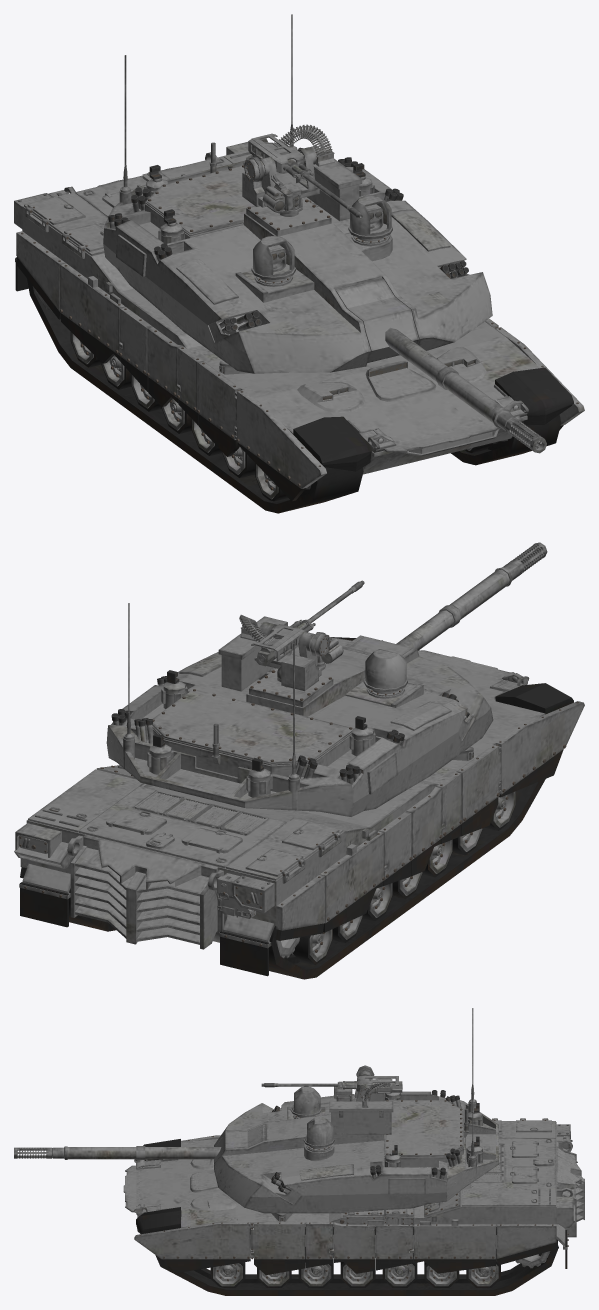
Rendered from abramsx-mortavex.glb.
3 views of the same model, one above another, from view 1: azimuth 30°, elevation 25°; view 2: azimuth 150°, elevation 25°; view 3: azimuth 270°, elevation 25° (orthographic). The views are drawn at different scales.
Parts seen in each view (by area): view 1: Turret, dekali3, Korpus, dekali, TurretKit, Cube.001, Stvol, dekali.002, RWSKorpus, KOLESA, stvol, puli; view 2: Turret, dekali, dekali3, TurretKit, Korpus, dekali.002, Cube.001, RWSKorpus, KOLESA, Stvol, stvol; view 3: Turret, dekali3, dekali, Korpus, Cube.001, KOLESA, TurretKit, dekali.002, Stvol, RWSKorpus, stvol.
Part boxes in pixels (x1,y1,x2,y2): Turret: (103,161,492,373); dekali3: (15,231,584,501); Korpus: (22,206,539,474); dekali: (15,150,573,471); TurretKit: (108,14,468,334); Cube.001: (27,279,561,513); Stvol: (335,278,546,453); dekali.002: (14,142,527,456); RWSKorpus: (242,145,362,221); KOLESA: (34,288,507,501); stvol: (248,133,362,218); puli: (276,124,332,156); Turret: (106,635,493,816); dekali: (19,637,573,976); dekali3: (20,701,584,940); TurretKit: (111,603,469,810); Korpus: (26,659,545,942); dekali.002: (14,650,514,918); Cube.001: (69,779,545,979); RWSKorpus: (218,616,343,691); KOLESA: (276,791,515,964); Stvol: (342,542,547,655); stvol: (251,580,364,666); Turret: (214,1091,498,1213); dekali3: (134,1135,558,1274); dekali: (134,1121,584,1268); Korpus: (136,1122,556,1257); Cube.001: (155,1227,557,1295); KOLESA: (210,1247,550,1287); TurretKit: (271,1008,482,1193); dekali.002: (123,1118,575,1227); Stvol: (14,1125,265,1164); RWSKorpus: (329,1065,393,1134); stvol: (261,1076,402,1093).
Bounding box in the file's own units: 506 × 572 × 1355.
Materials: 6 (6 with a texture image).
